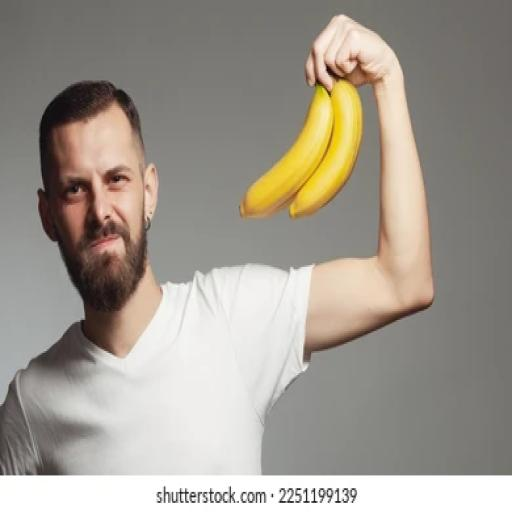banana: (239, 85, 333, 217), (289, 79, 362, 219)
